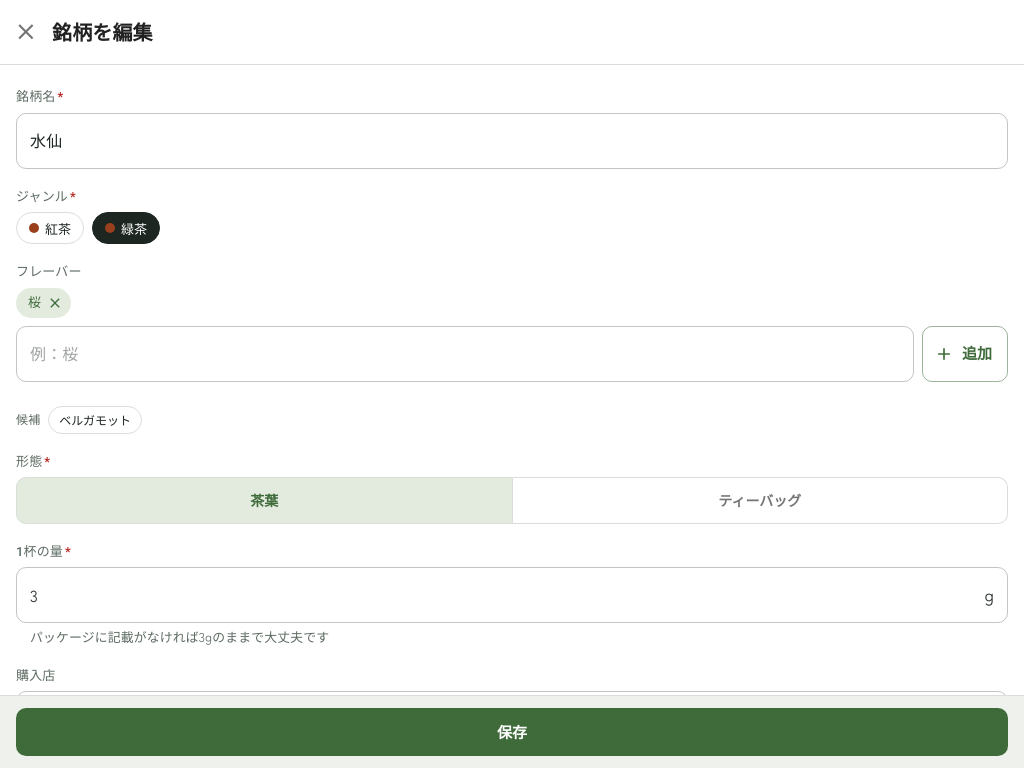
it: SC-04 銘柄を編集 › 今の内容を表示し、保存すると銘柄詳細に戻る
The image size is (1024, 768).
Expected: the button named "桜を外す" is shown, [43,290,67,314]
Expected: the field named "購入店" holds "茶舗", [16,691,1008,747]
Replace the text in the field named "銘柄名" with "水仙（老叢）". click: [512, 140]
box: [16,112,1008,168]
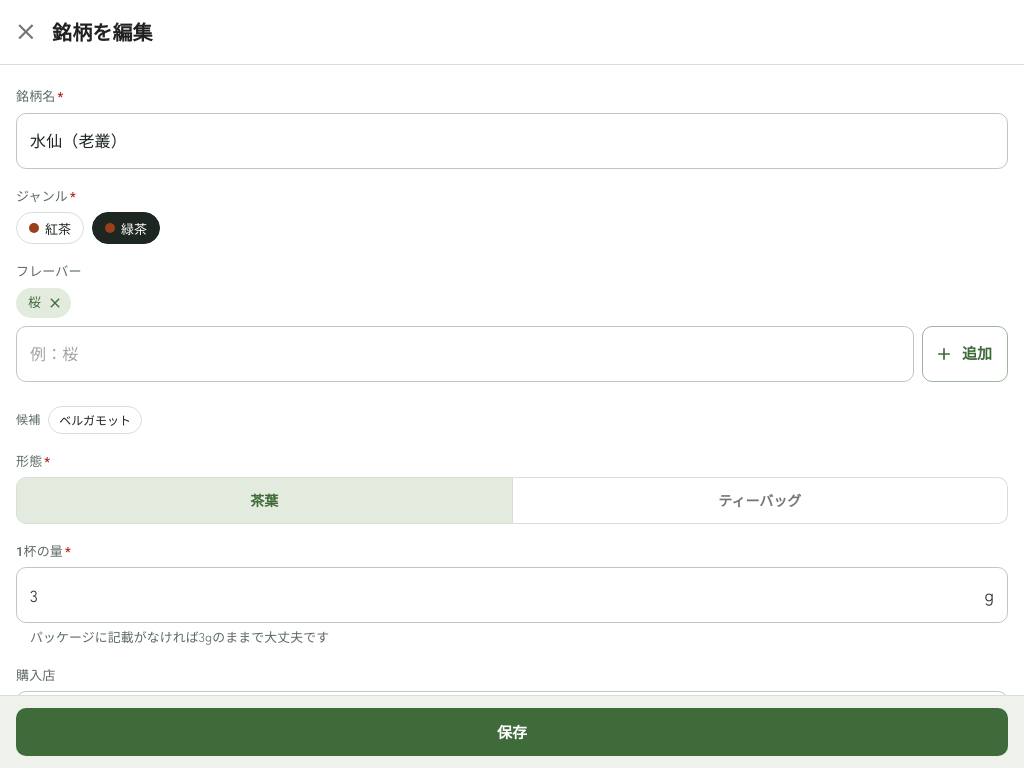
Click the button "保存". click: [512, 732]
box: [16,708,1008,756]
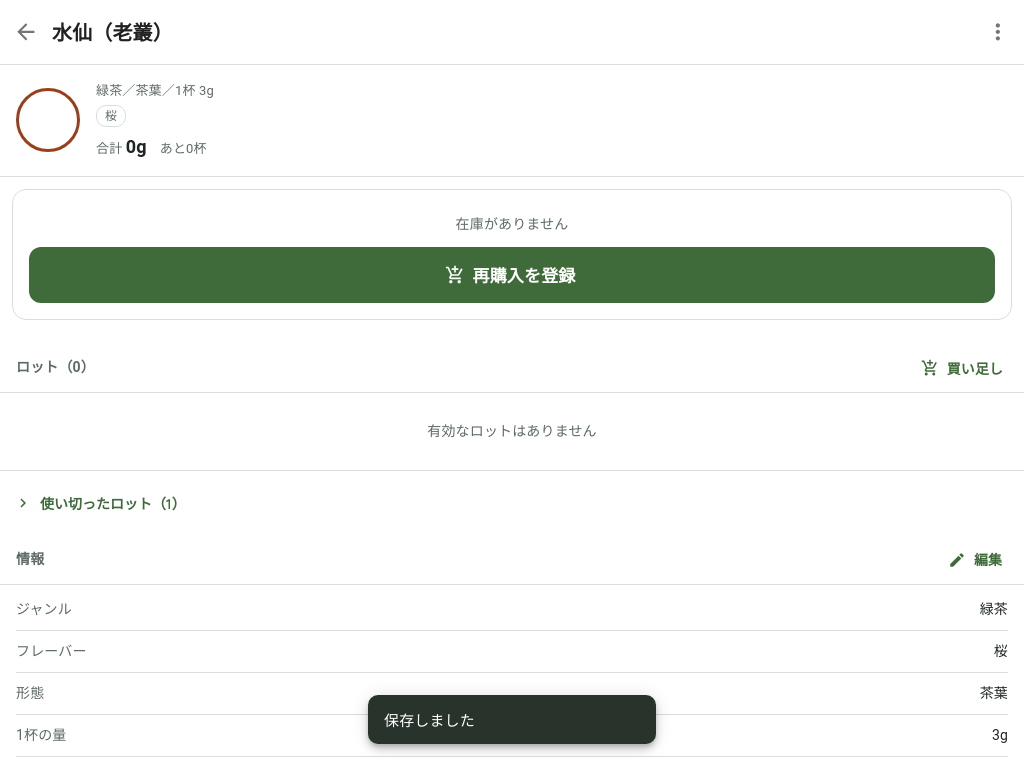
Expected: the text "保存しました" is shown, [384,709,475,730]
Expected: the heading "水仙（老叢）" is shown, [52,17,173,46]
